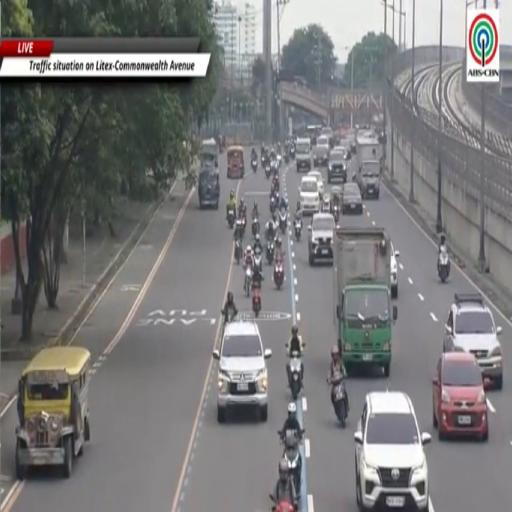car: (354, 392, 431, 511), (213, 320, 272, 423), (443, 293, 503, 389), (433, 352, 488, 440), (309, 213, 335, 265), (299, 175, 320, 215), (328, 150, 347, 183), (342, 183, 362, 214), (295, 138, 311, 172), (313, 136, 330, 167), (391, 243, 399, 298), (308, 170, 324, 196)
jeepney: (15, 347, 91, 479), (198, 166, 220, 209), (227, 146, 244, 179), (200, 138, 218, 168)
motorcycle: (330, 373, 347, 428), (289, 351, 302, 401), (270, 494, 297, 511), (438, 247, 450, 282), (274, 261, 284, 290), (252, 287, 261, 317), (244, 266, 252, 297), (279, 207, 287, 234), (234, 239, 242, 264), (254, 247, 262, 271), (266, 240, 274, 264), (251, 216, 260, 237), (294, 219, 302, 242), (227, 209, 236, 229), (239, 216, 246, 237), (271, 179, 279, 196), (270, 195, 277, 214), (333, 205, 339, 223), (265, 164, 271, 179), (290, 145, 296, 159), (252, 159, 257, 172), (261, 154, 266, 166), (277, 154, 281, 167), (285, 153, 289, 164), (280, 432, 281, 436)
truck: (333, 227, 397, 377), (353, 134, 383, 199), (356, 134, 383, 169)
